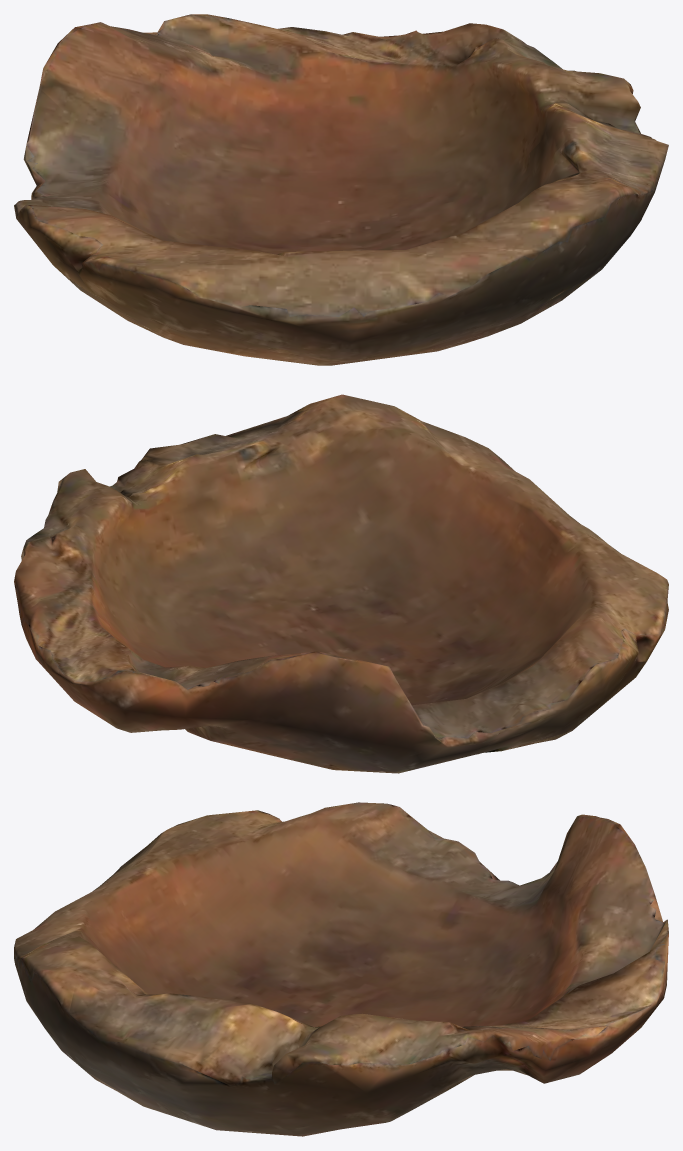
The model's file is wooden_bowl_01.glb.
3 views of the same model, one above another, from view 1: azimuth 30°, elevation 25°; view 2: azimuth 150°, elevation 25°; view 3: azimuth 270°, elevation 25° (orthographic). The views are drawn at different scales.
Parts seen in each view (by area): view 1: wooden_bowl_01; view 2: wooden_bowl_01; view 3: wooden_bowl_01.
Part boxes in pixels (x1,y1,x2,y2): wooden_bowl_01: (14,14,668,365); wooden_bowl_01: (14,394,668,773); wooden_bowl_01: (14,802,668,1136).
Size of the model in its own units: 0.313 by 0.0935 by 0.3079.
Materials: 1 (1 with a texture image).
